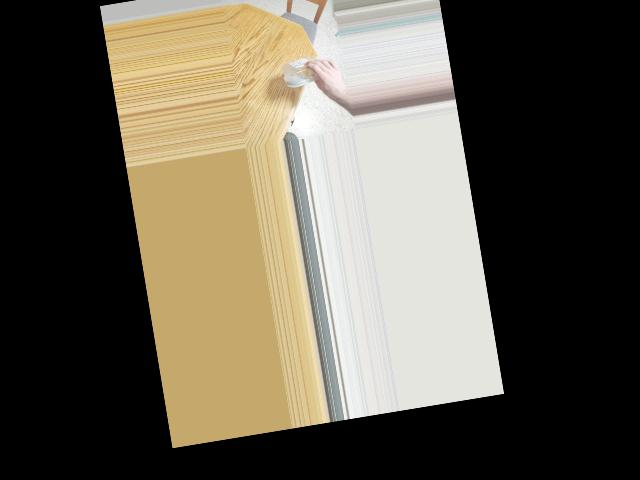cheese: (286, 51, 332, 91)
